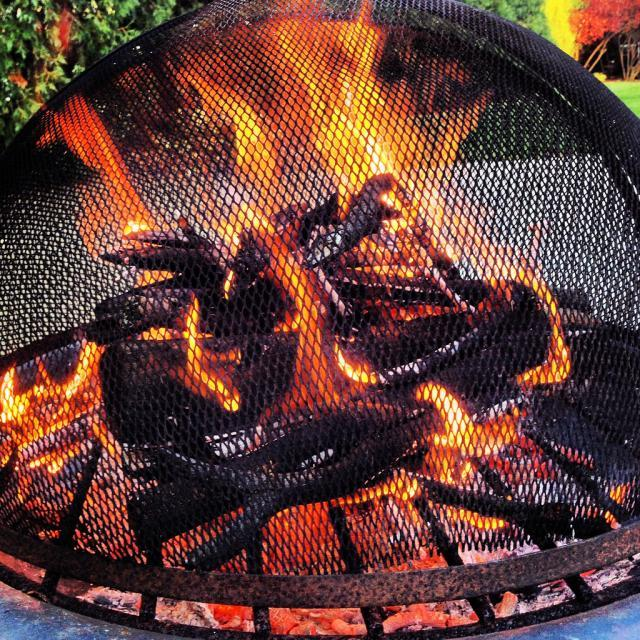Fire: (206, 17, 456, 188)
